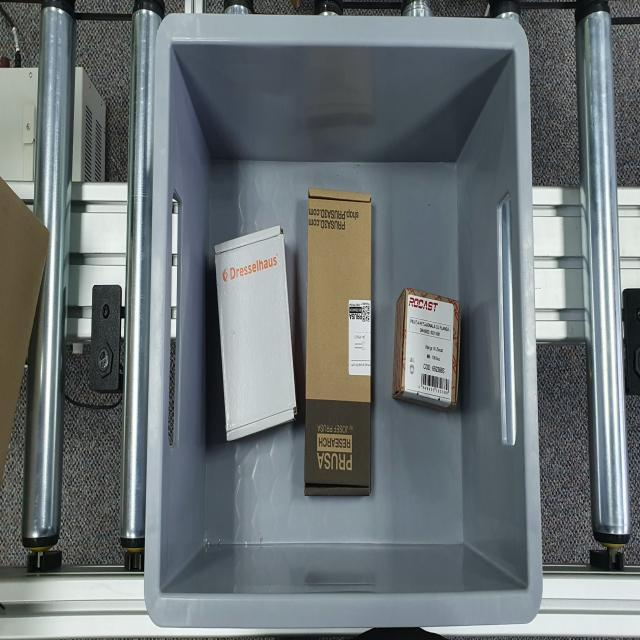box: (308, 186, 372, 497), (214, 222, 299, 443), (400, 286, 463, 413)
